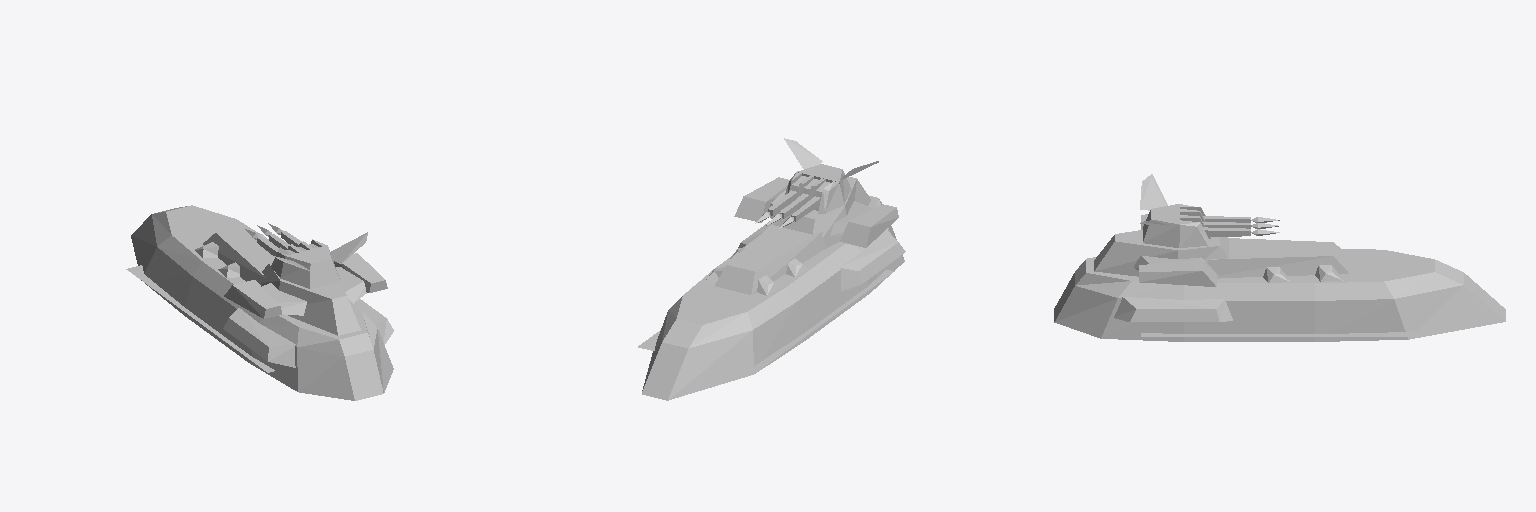
File: tllasgard.obj
The picture shows the model from 3 angles: view 1: azimuth 30°, elevation 25°; view 2: azimuth 150°, elevation 25°; view 3: azimuth 270°, elevation 25°; orthographic projection.
Size of the model in its own units: 72.16 by 62.58 by 216.